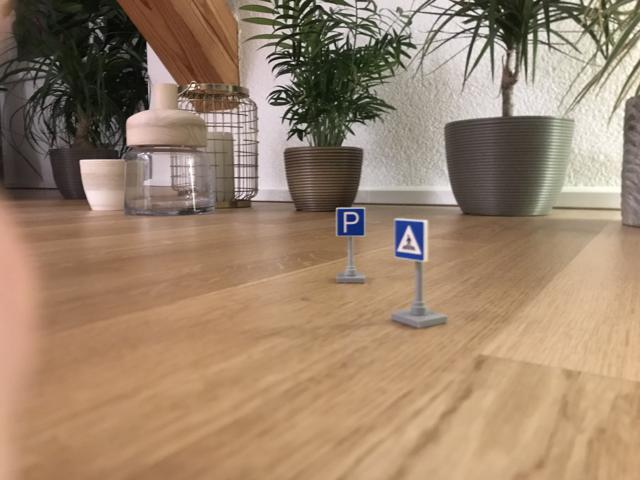fußgängerüberweg: (391, 217, 429, 263)
parken: (335, 206, 367, 240)
